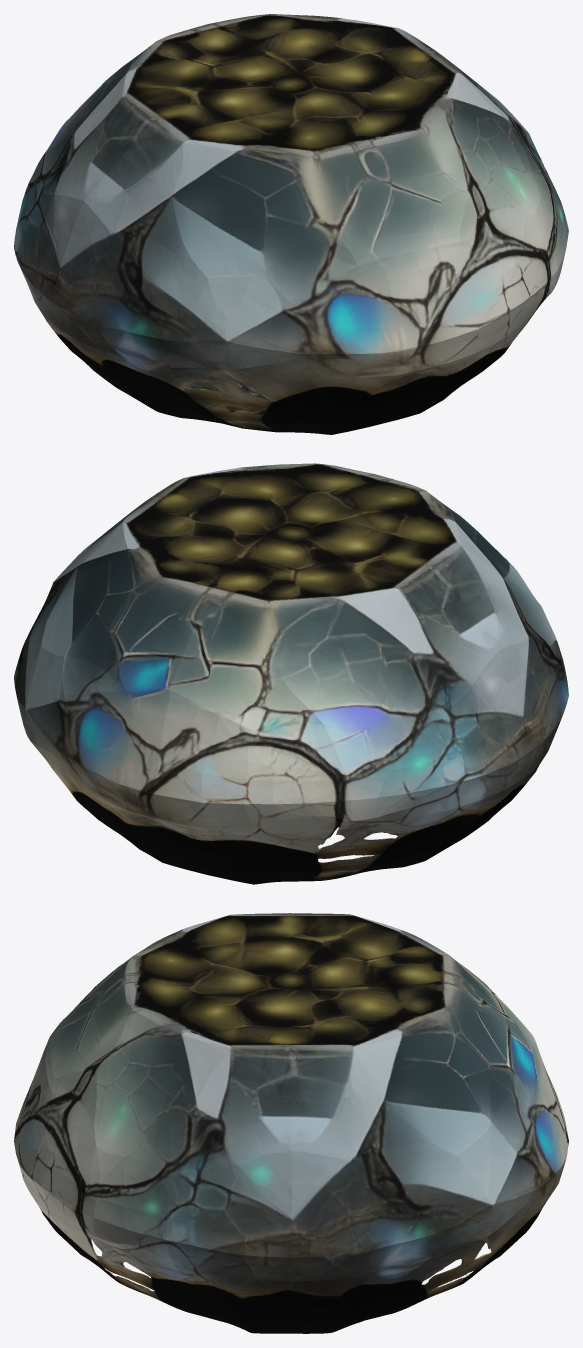
The model's file is stone-paperweight-futuristic.jpeg.glb.
The picture shows the model from 3 angles, top to bottom: view 1: azimuth 30°, elevation 25°; view 2: azimuth 150°, elevation 25°; view 3: azimuth 270°, elevation 25°; orthographic projection.
Visible parts, largest first — view 1: world; view 2: world; view 3: world.
Boxes of the visible parts, x1,y1,x2,y2 form: world: (14,14,568,434); world: (14,463,568,884); world: (14,913,568,1333).
Size of the model in its own units: 0.9991 by 0.6129 by 0.9965.
Materials: 1 (1 with a texture image).
